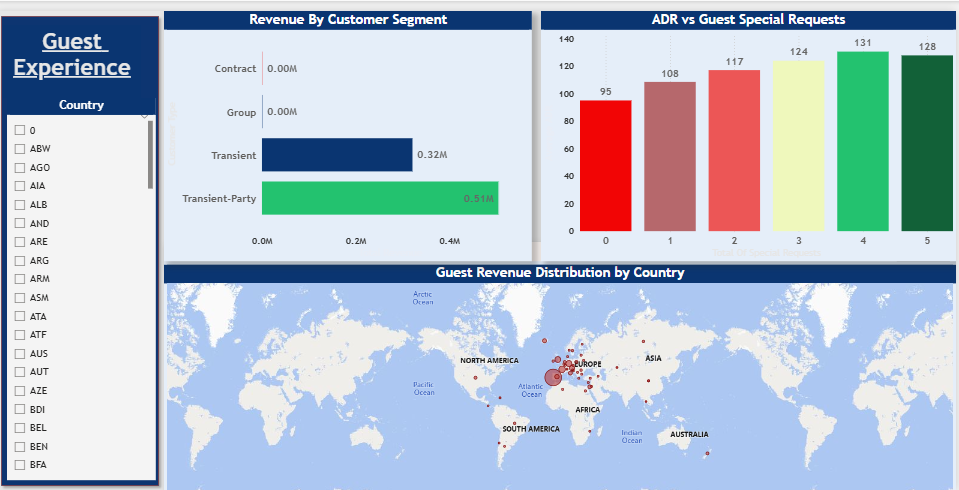

This screenshot's page, from the dashboard's own definition file:
{"tool":"powerbi","page":{"name":"Guest Experience Report","canvas":[1600,800],"ordinal":3},"visuals":[{"type":"shape","box":[0,0,280,800],"z":0},{"type":"textbox","box":[11.7,23.3,230,121.7],"z":1000},{"type":"map","title":"Guest Revenue Distribution  by Country","fields":{"Size":["hotel_bookings.Total Revenue"],"Category":["hotel_bookings.Country"]},"box":[280,385,1320,415],"z":2000},{"type":"clusteredBarChart","title":" Revenue By Customer Segment","fields":{"Category":["hotel_bookings.Customer Type"],"Y":["hotel_bookings.Total Revenue"]},"box":[280,0,613.3,416.7],"z":3000},{"type":"clusteredColumnChart","title":" ADR vs Guest Special Requests","fields":{"Category":["hotel_bookings.Total Of Special Requests"],"Y":["hotel_bookings.Average ADR"]},"box":[908.3,0,691.7,416.7],"z":3001},{"type":"slicer","title":"Country","fields":{"Values":["hotel_bookings.Country"]},"box":[18.3,145,248.3,636.7],"z":3002}]}

Visuals, with their boxes in screenshot pixels (x1, y1, x2, y2), scaled from the page's 1600x800 canvas onto the 959x490 screenshot:
shape: 0,0,168,489
textbox: 7,14,145,89
"Guest Revenue Distribution  by Country" map: 168,236,958,489
" Revenue By Customer Segment" clusteredBarChart: 168,0,535,255
" ADR vs Guest Special Requests" clusteredColumnChart: 544,0,958,255
"Country" slicer: 11,89,160,479
